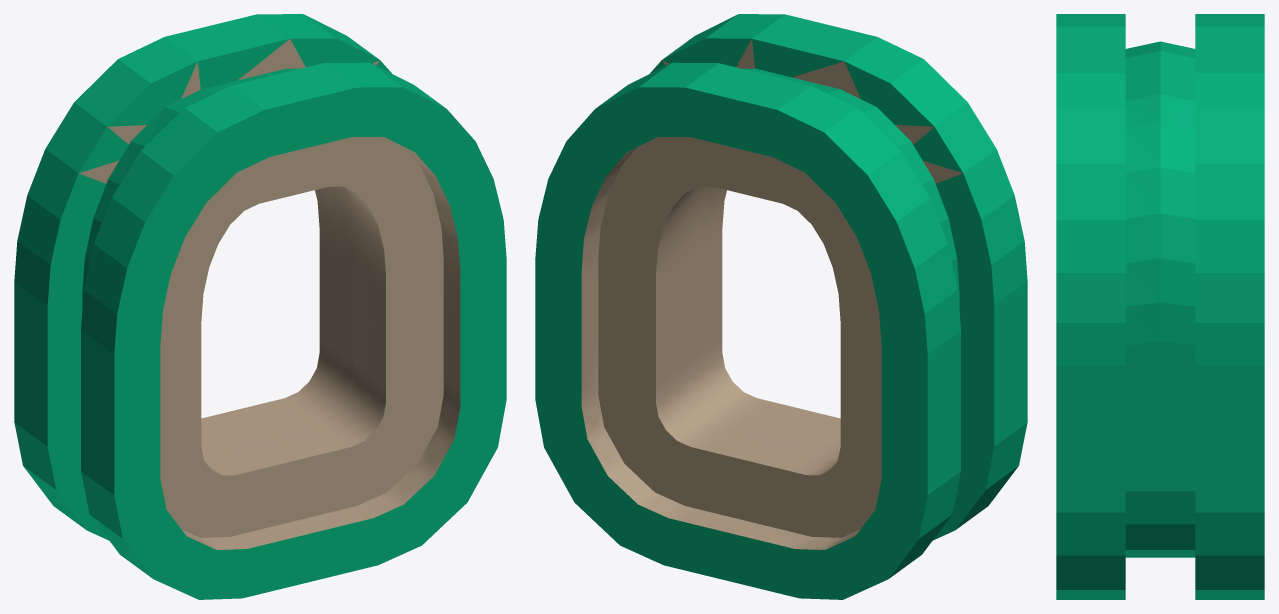
The model's file is TT_Straight_1.fbx.
3 views of the same model, side by side, from view 1: azimuth 30°, elevation 25°; view 2: azimuth 150°, elevation 25°; view 3: azimuth 270°, elevation 25° (orthographic). The views are drawn at different scales.
Visible parts, largest first — view 1: TT_Straight_1_LOD0; view 2: TT_Straight_1_LOD0; view 3: TT_Straight_1_LOD0.
Boxes of the visible parts, x1=… form: TT_Straight_1_LOD0: x1=14, y1=14, x2=506, y2=599; TT_Straight_1_LOD0: x1=535, y1=14, x2=1027, y2=599; TT_Straight_1_LOD0: x1=1056, y1=14, x2=1264, y2=599.
Size of the model in its own units: 340 by 400 by 150.
